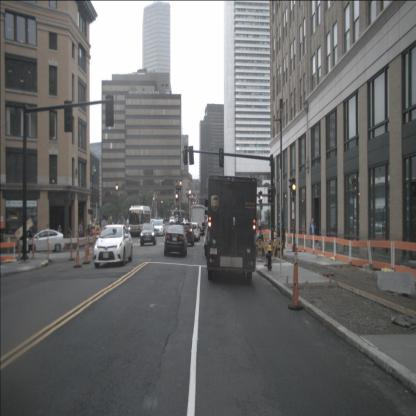cone: (288, 246, 303, 310), (73, 234, 82, 268), (83, 236, 91, 265), (68, 233, 76, 261), (30, 233, 36, 261), (16, 238, 22, 264), (46, 238, 52, 262), (86, 237, 91, 264)
